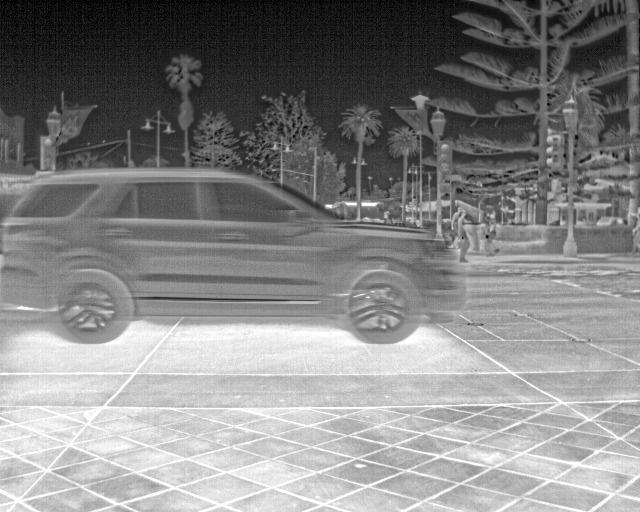bicycle: (1, 166, 464, 344)
empty: (453, 213, 470, 262)
